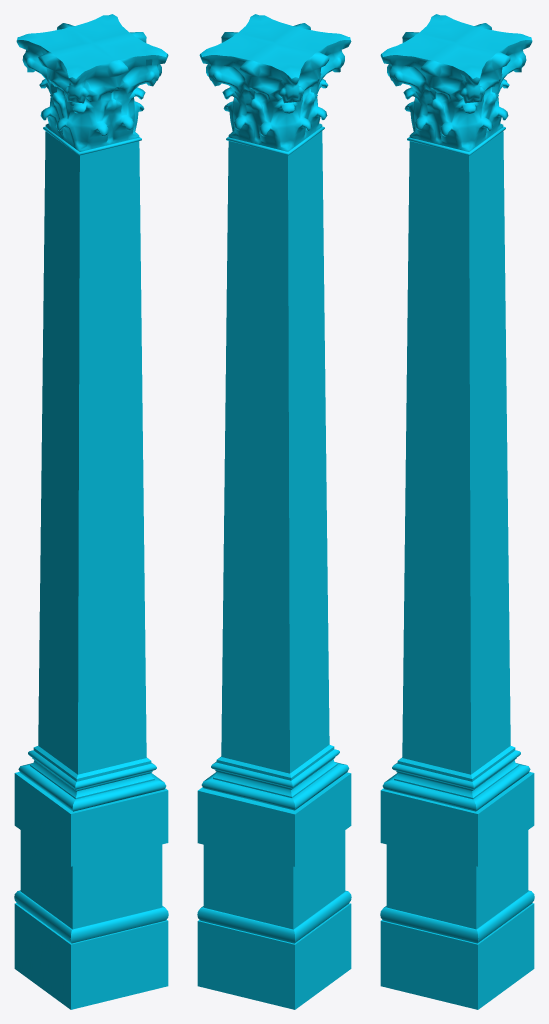
File: Peter_Pillar05.FBX
3 views of the same model, side by side, from view 1: azimuth 30°, elevation 25°; view 2: azimuth 150°, elevation 25°; view 3: azimuth 330°, elevation 25° (orthographic).
Visible parts, largest first — view 1: Object015; view 2: Object015; view 3: Object015.
Boxes of the visible parts, bbox=[...] form: Object015: bbox=[14, 14, 168, 1009]; Object015: bbox=[197, 14, 351, 1009]; Object015: bbox=[380, 14, 534, 1009].
Size of the model in its own units: 375 by 3296 by 375.
